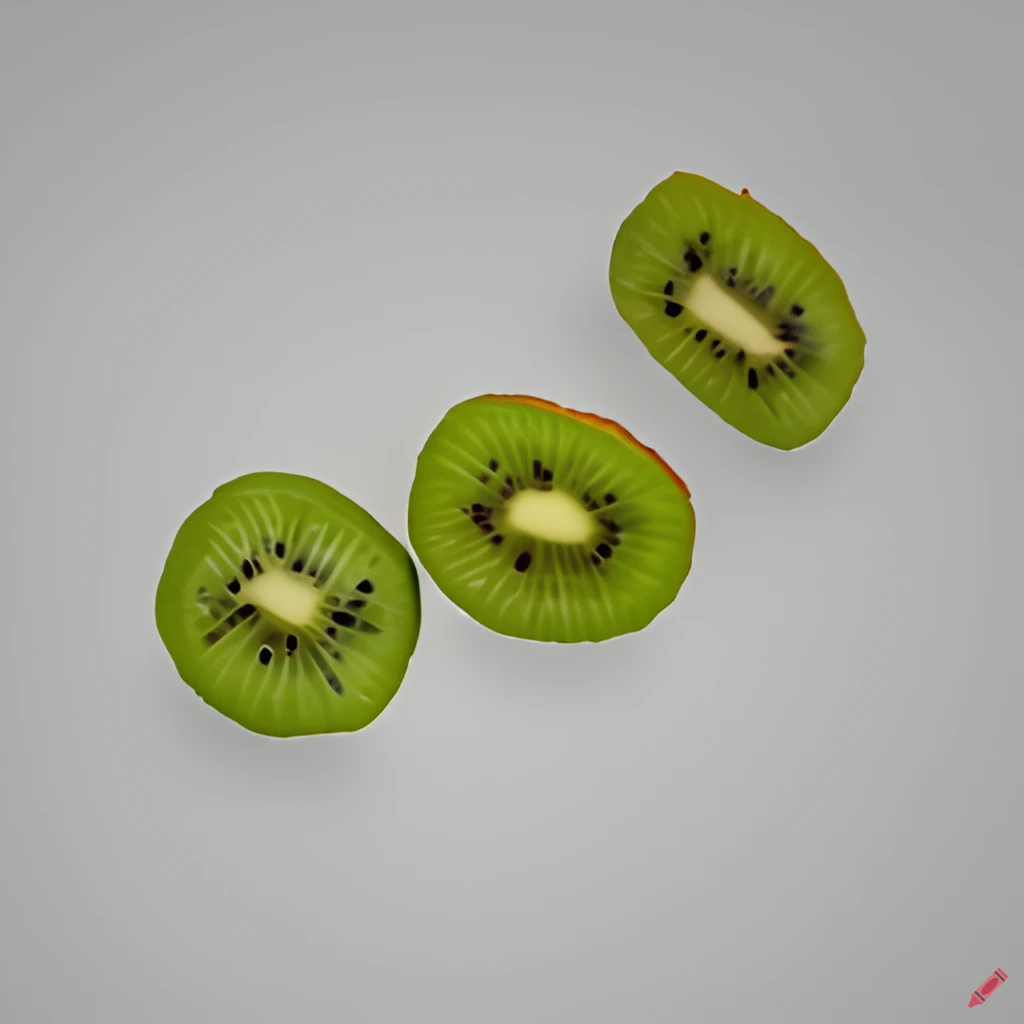Kiwi: (123, 463, 462, 773)
